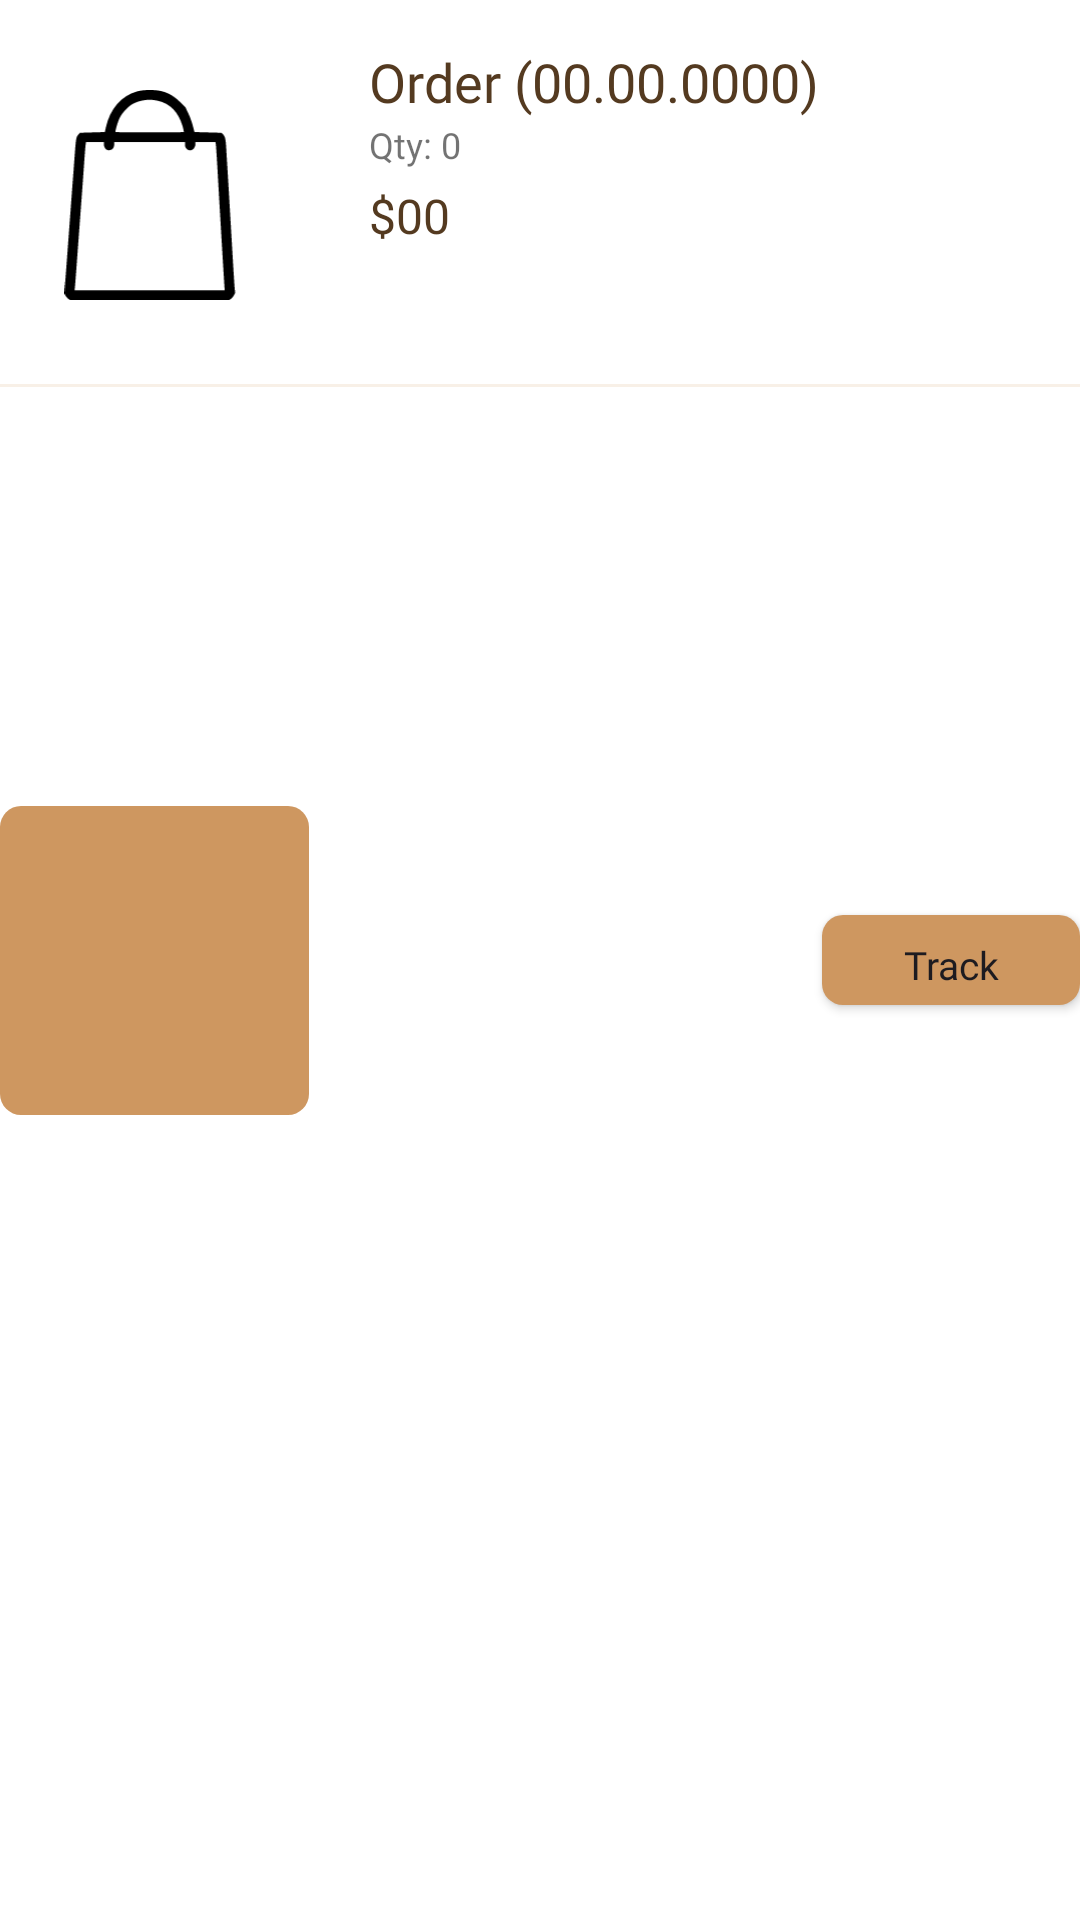

Where to tap for icons on this 1080 x 1920 app screen, as (x=x, y=y):
cart my order: (x=150, y=195)
